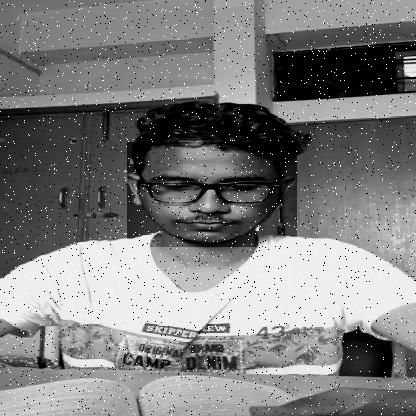Normal: (127, 142, 297, 247)
